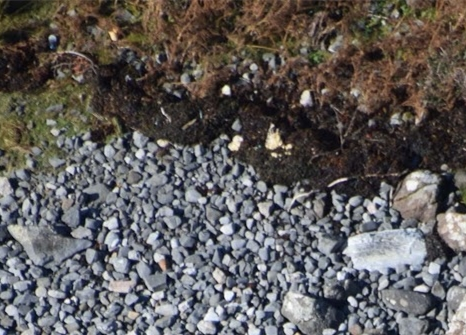scattered_barrel: (214, 78, 320, 161), (43, 4, 125, 50)
